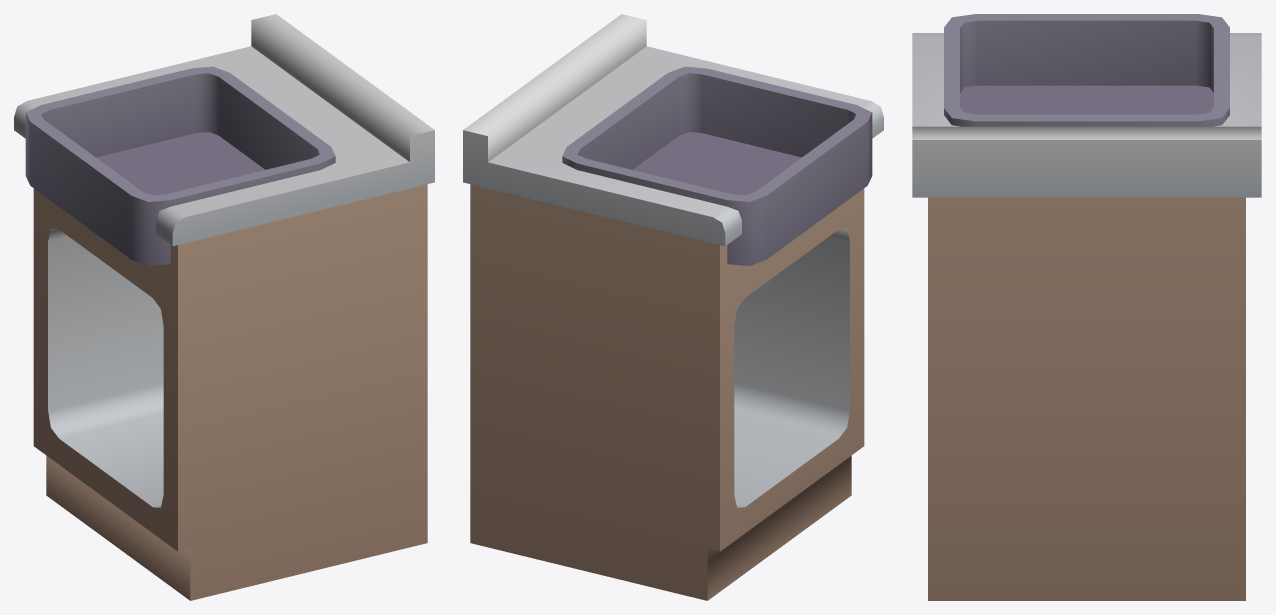
The model's file is cabinet-basic-sink-large.glb.
3 renders of one model, left to right at view 1: azimuth 30°, elevation 25°; view 2: azimuth 150°, elevation 25°; view 3: azimuth 270°, elevation 25°, orthographic. The views are drawn at different scales.
Visible parts, largest first — view 1: cabinet-basic-sink-large; view 2: cabinet-basic-sink-large; view 3: cabinet-basic-sink-large.
Part boxes in pixels (box(x1,y1,x2,y2)): cabinet-basic-sink-large: box(14, 14, 434, 600); cabinet-basic-sink-large: box(463, 14, 883, 600); cabinet-basic-sink-large: box(912, 14, 1261, 600).
Size of the model in its own units: 0.55 by 0.8 by 0.55.
